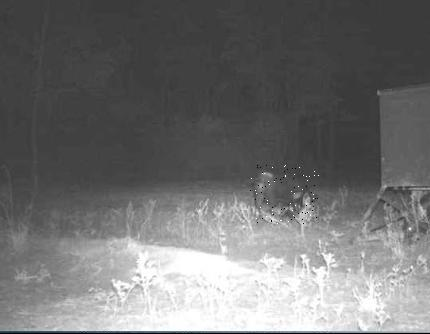Hog: (250, 165, 319, 224)
